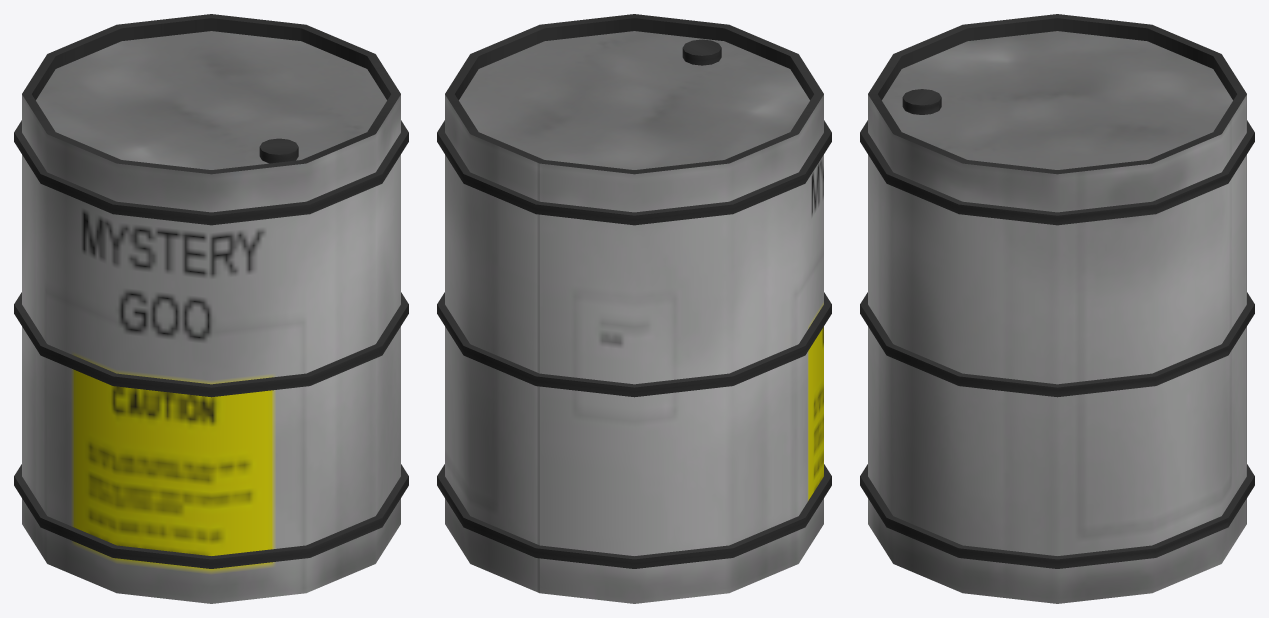
File: Barrel.FBX
3 views of the same model, side by side, from view 1: azimuth 30°, elevation 25°; view 2: azimuth 150°, elevation 25°; view 3: azimuth 270°, elevation 25° (orthographic).
Parts seen in each view (by area): view 1: Cylinder001, Cylinder002, Cylinder004, Cylinder003, Cylinder005; view 2: Cylinder001, Cylinder002, Cylinder004, Cylinder003, Cylinder005; view 3: Cylinder001, Cylinder002, Cylinder004, Cylinder003, Cylinder005.
Boxes of the visible parts, x1,y1,x2,y2 form: Cylinder001: (22,14,400,603); Cylinder002: (14,292,408,397); Cylinder004: (14,464,408,568); Cylinder003: (14,120,408,225); Cylinder005: (259,138,298,163); Cylinder001: (445,14,823,603); Cylinder002: (437,292,831,397); Cylinder004: (437,464,831,568); Cylinder003: (437,120,831,225); Cylinder005: (682,39,721,65); Cylinder001: (868,14,1246,603); Cylinder002: (860,292,1254,397); Cylinder004: (860,464,1254,568); Cylinder003: (860,120,1254,225); Cylinder005: (902,89,941,114).
Size of the model in its own units: 0.4163 by 0.5 by 0.4163.
1 material, 1 textured.
